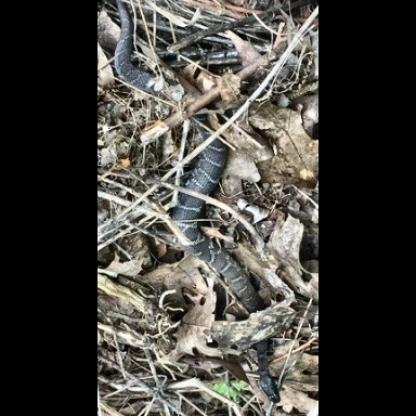Snake: (164, 135, 289, 405)
